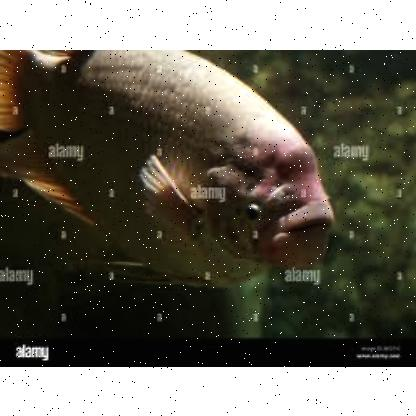gurame: (0, 49, 338, 291)
